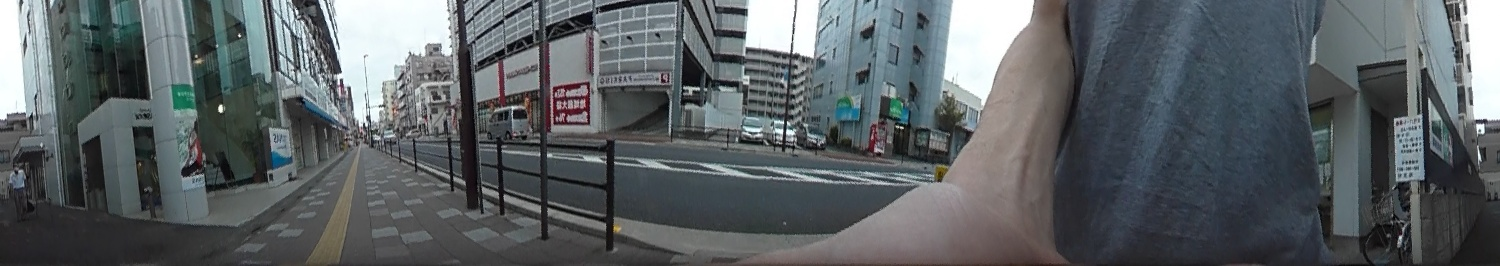person: (6, 163, 31, 224)
